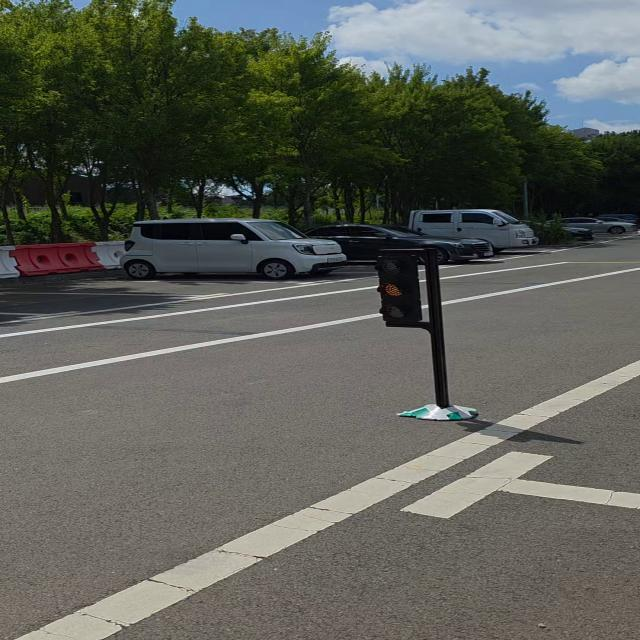yellow: (364, 244, 437, 332)
